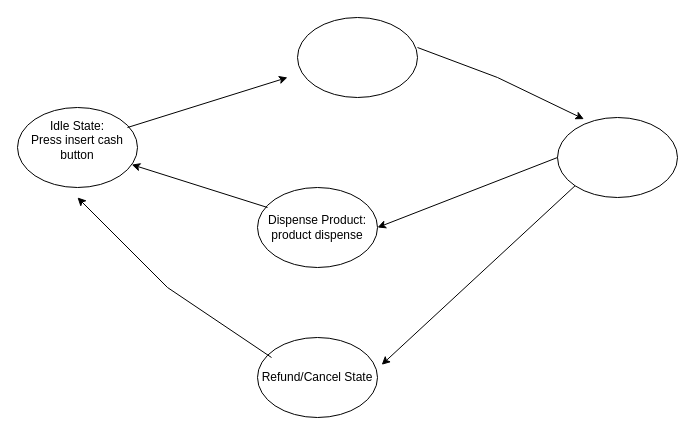
Some shapes in this 695 by 435 pixel diagram are drawn without their labels. The shapes that lost their labels are listed below. From the top down, each one's centre as x and y in pixels, then its label:
pixel 357 57: Has Money State: insert coin, select product button cancel/refund button
pixel 617 157: Selection State: Choose Product Cancel/Refund Selection refund change
